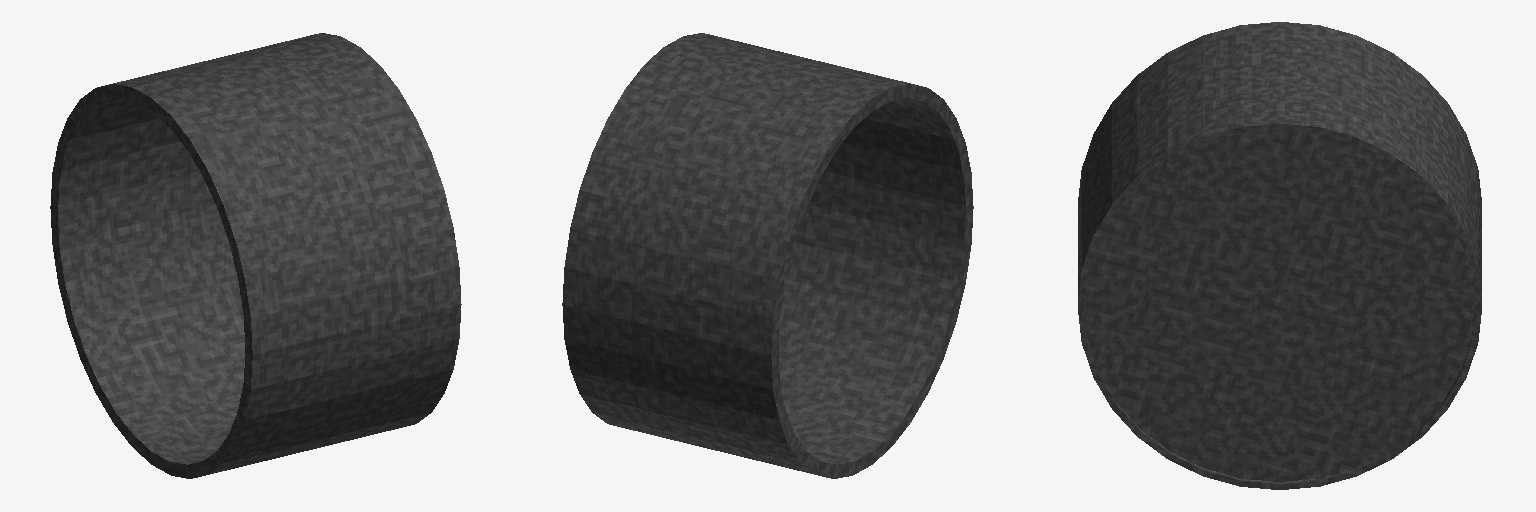
The picture shows the model from 3 angles: view 1: azimuth 30°, elevation 25°; view 2: azimuth 150°, elevation 25°; view 3: azimuth 270°, elevation 25°; orthographic projection.
Bounding box in the file's own units: 0.0321 × 0.0538 × 0.0538.
Materials: 1 (1 with a texture image).